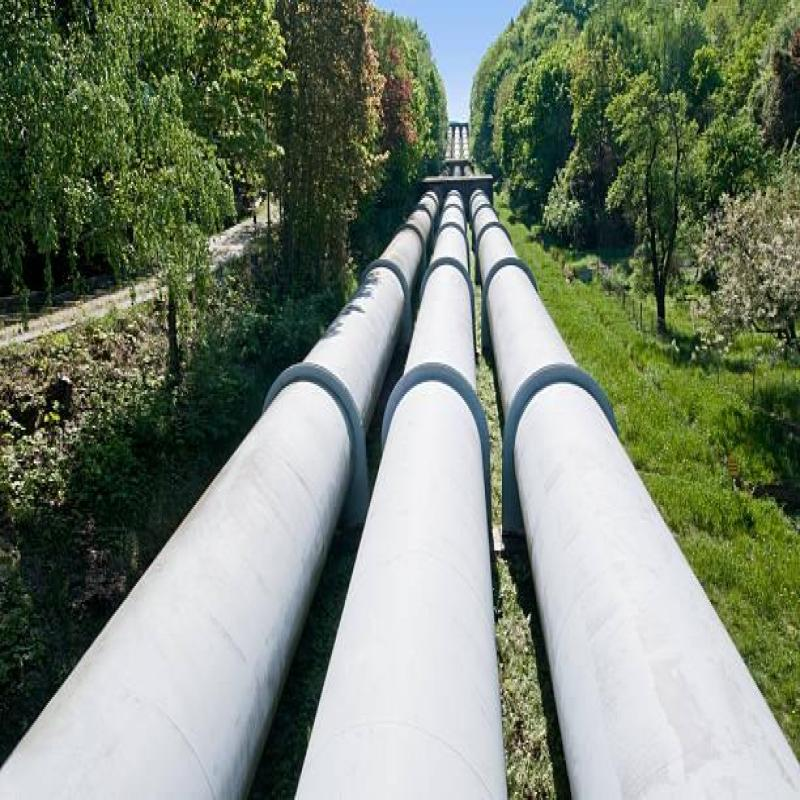Healthy: (0, 361, 800, 800)
